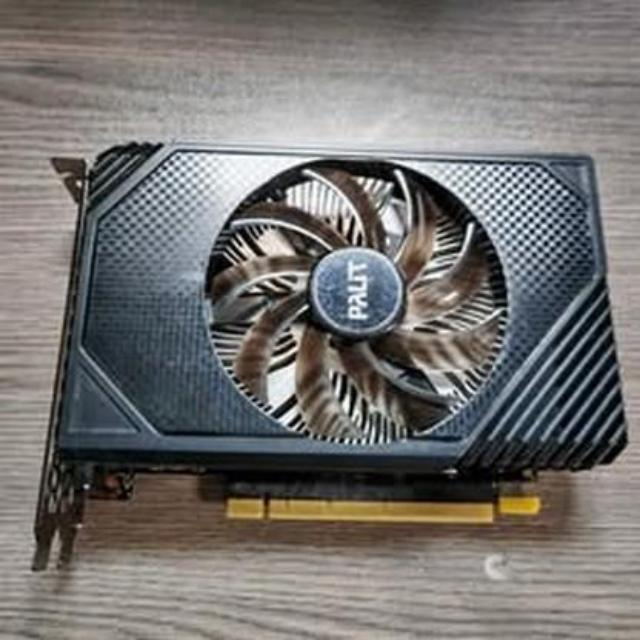GPU: (58, 144, 630, 524)
